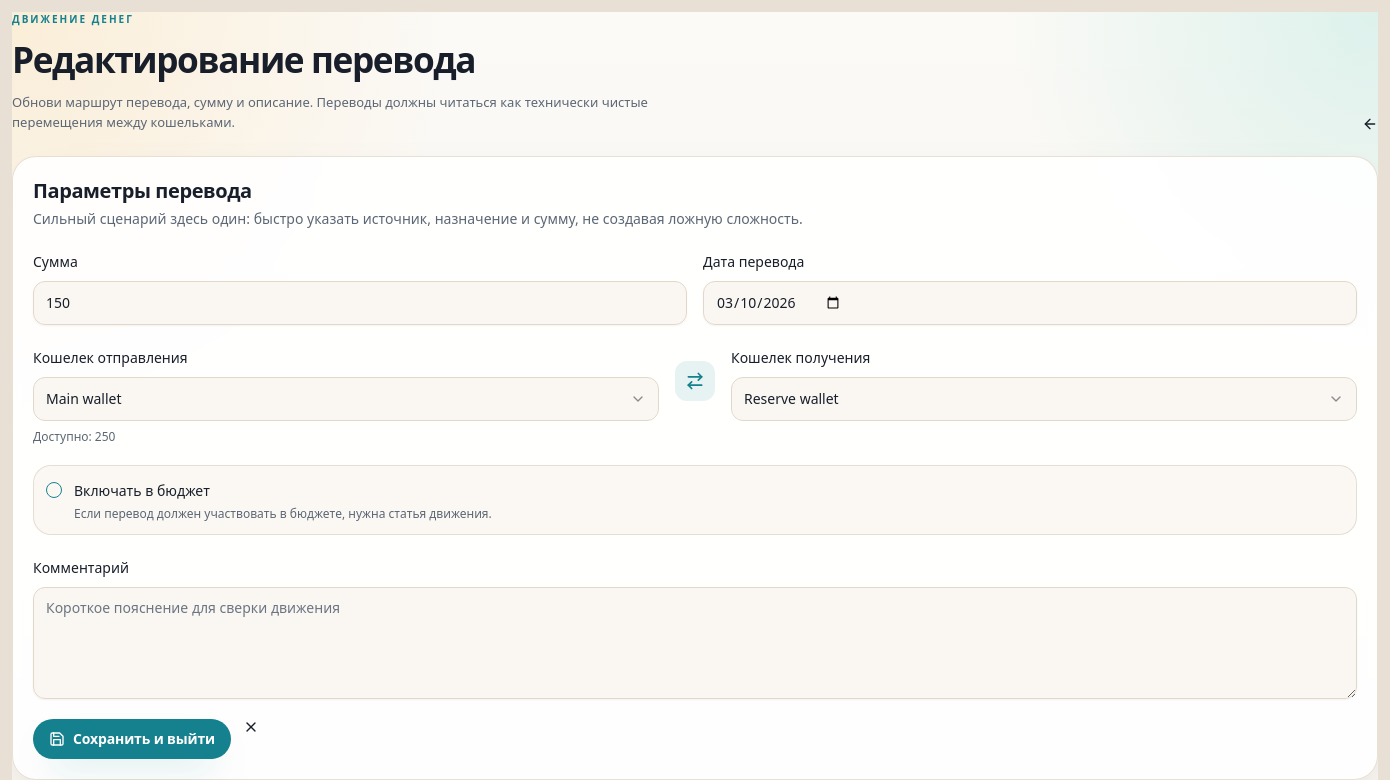
Test case: shared forms › does not add back the edited transfer amount outside the selected balance date
Step 1. Type "2026-03-09" into the date field labelled "Дата перевода" → x=1030, y=303, box [703,281,1357,325]
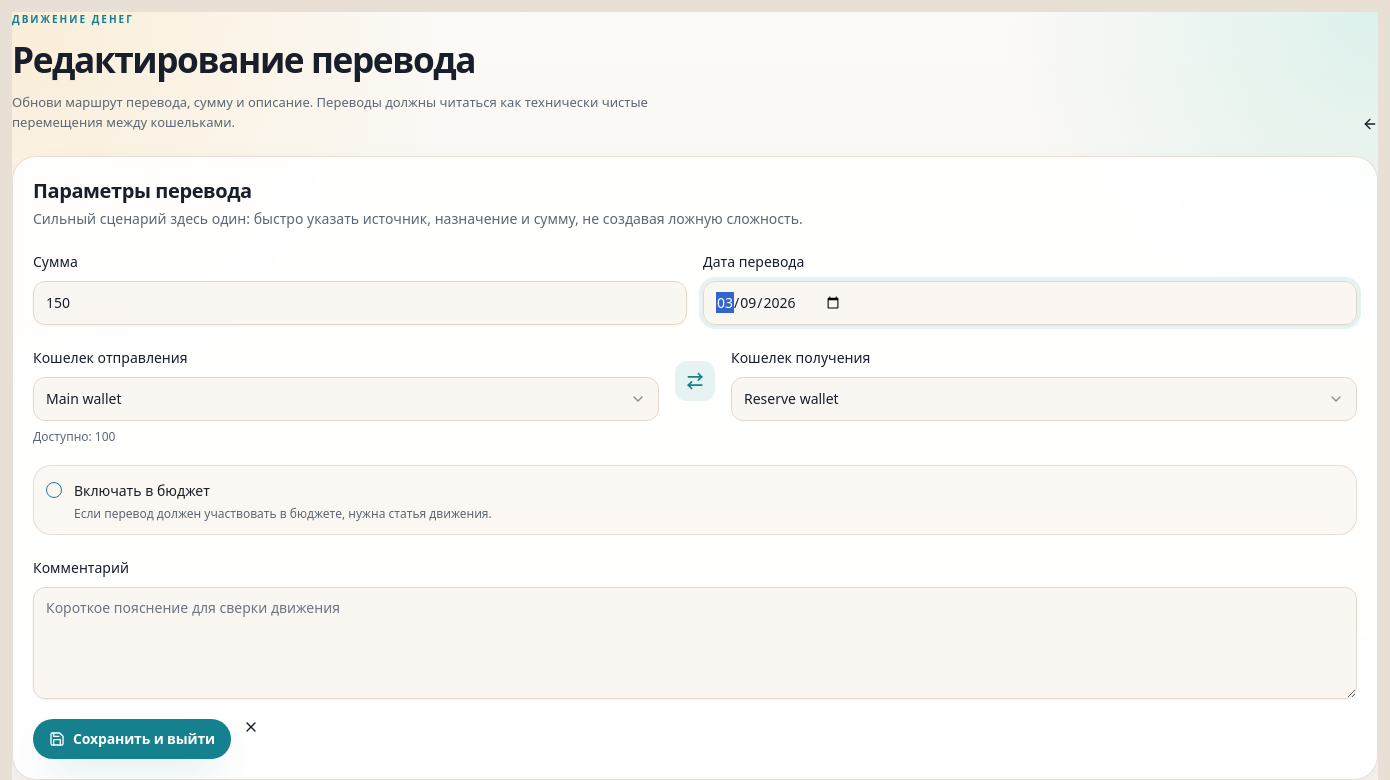
Step 2. Click the button "Сохранить и выйти" → x=132, y=739, box [33,719,231,759]
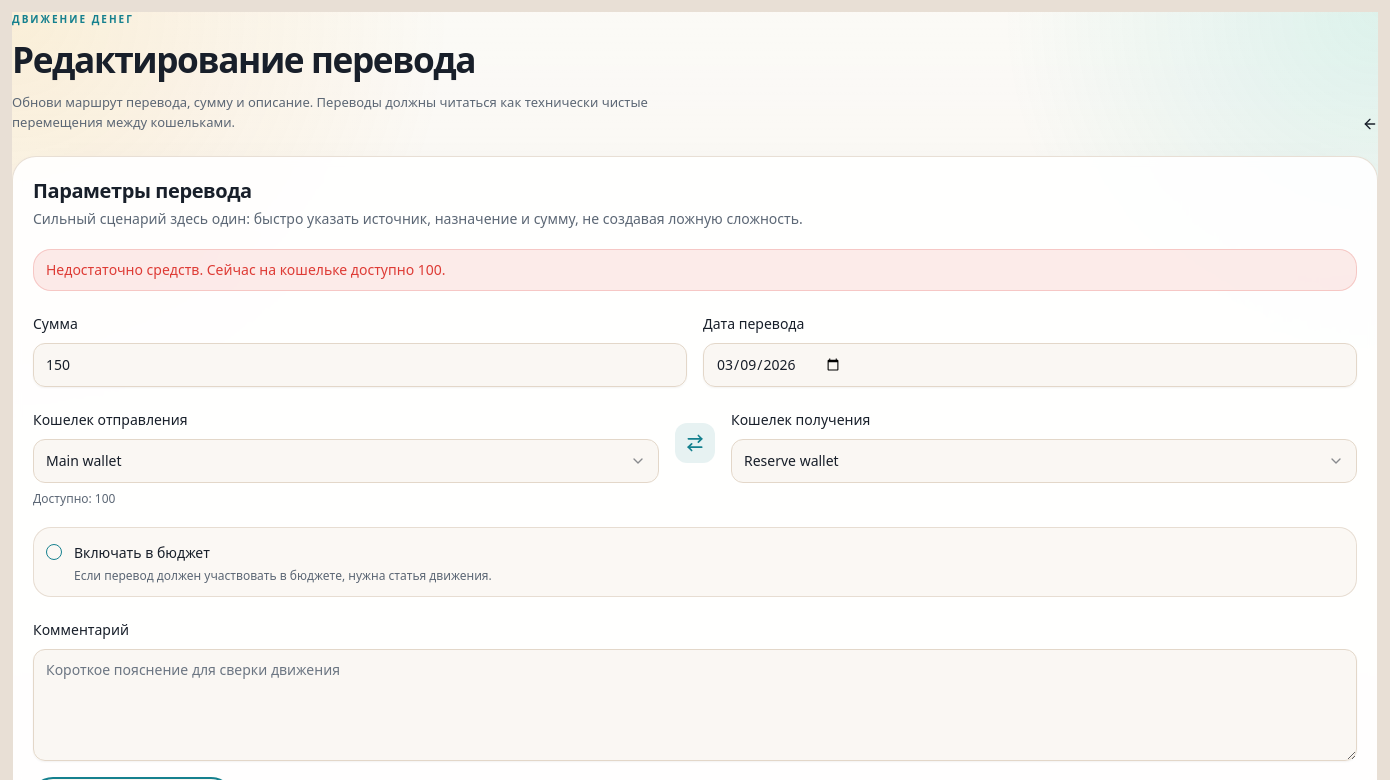
Expected: the text "Недостаточно средств. Сейчас на кошельке доступно 100." is shown, [33,249,1357,291]
